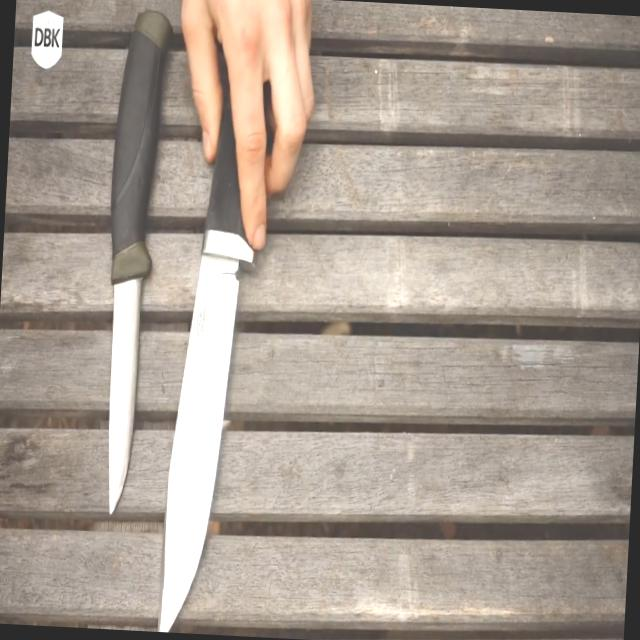knife: (148, 60, 320, 637), (82, 206, 160, 534)
